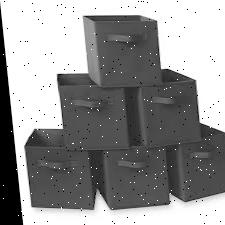cube: (19, 130, 95, 212), (83, 16, 164, 89), (55, 73, 126, 152), (100, 150, 169, 210)
